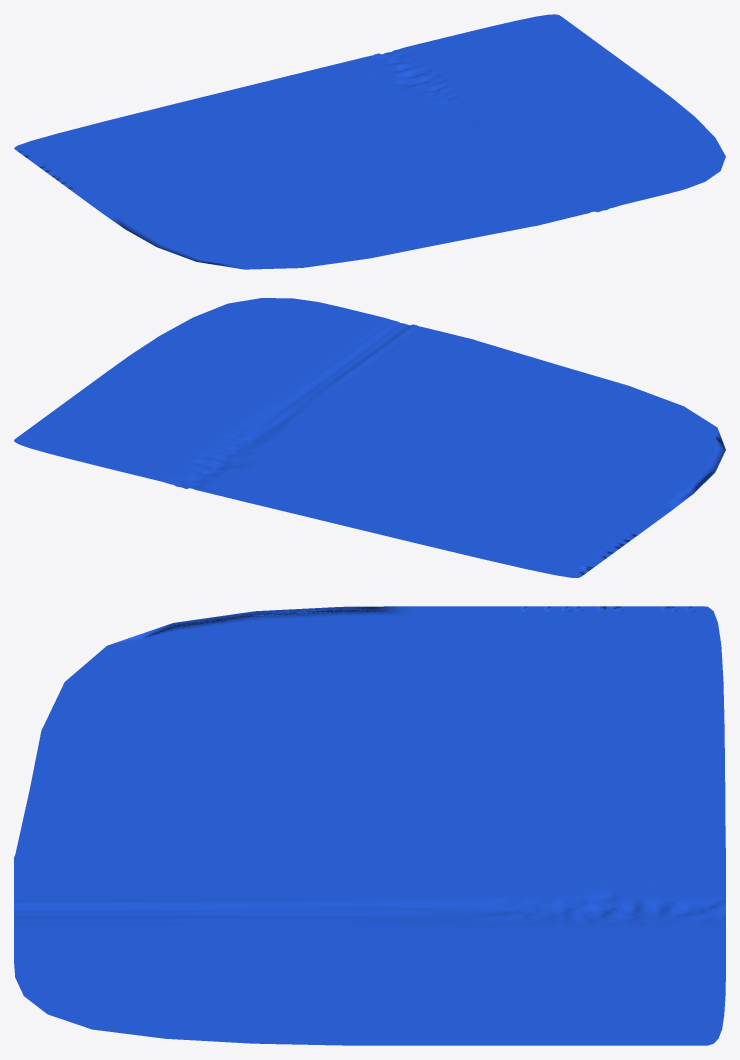
Rendered from Agua_7.glb.
3 renders of one model, top to bottom at view 1: azimuth 30°, elevation 25°; view 2: azimuth 150°, elevation 25°; view 3: azimuth 270°, elevation 25°, orthographic. The views are drawn at different scales.
Parts seen in each view (by area): view 1: Agua; view 2: Agua; view 3: Agua.
Boxes of the visible parts, <box> form: Agua: <box>14,14,725,269</box>; Agua: <box>14,298,725,577</box>; Agua: <box>14,606,725,1045</box>.
Size of the model in its own units: 1326 by 11.08 by 907.
